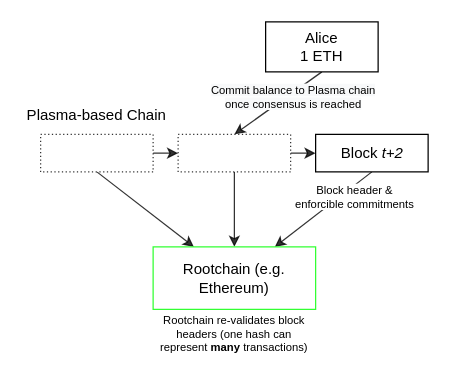
This 450x381 diagram has some shape labels left out. The shapes that lost their labels are listed below. From the top down, each one's centre as x and y in pixels, then its label:
At point 96,152: "Block t".
At point 234,152: "Block t+1".
